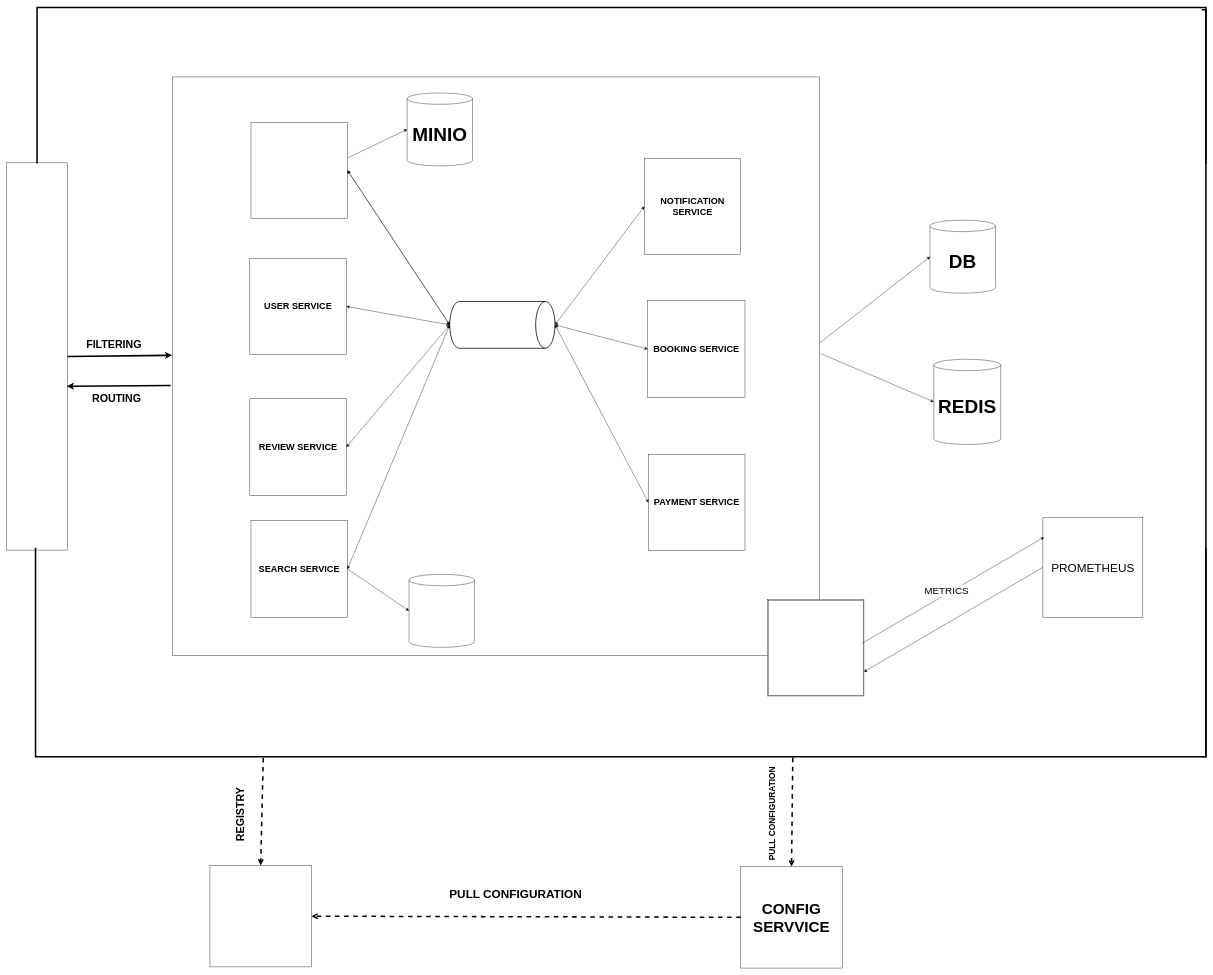
Some shapes in this 1213 by 975 pixel diagram are drawn without their labels. Here are the shapes that lost their labels. From the top down, the box of each, then its label:
(251, 122, 348, 219): LISTING SERVICE
(449, 301, 555, 348): KAFKA
(6, 162, 67, 550): GATEWAY SERVER
(409, 574, 474, 647): ELASTIC
(767, 599, 864, 696): SPRING ACTUATOR
(210, 865, 311, 967): DISCOVERY SERVICE
